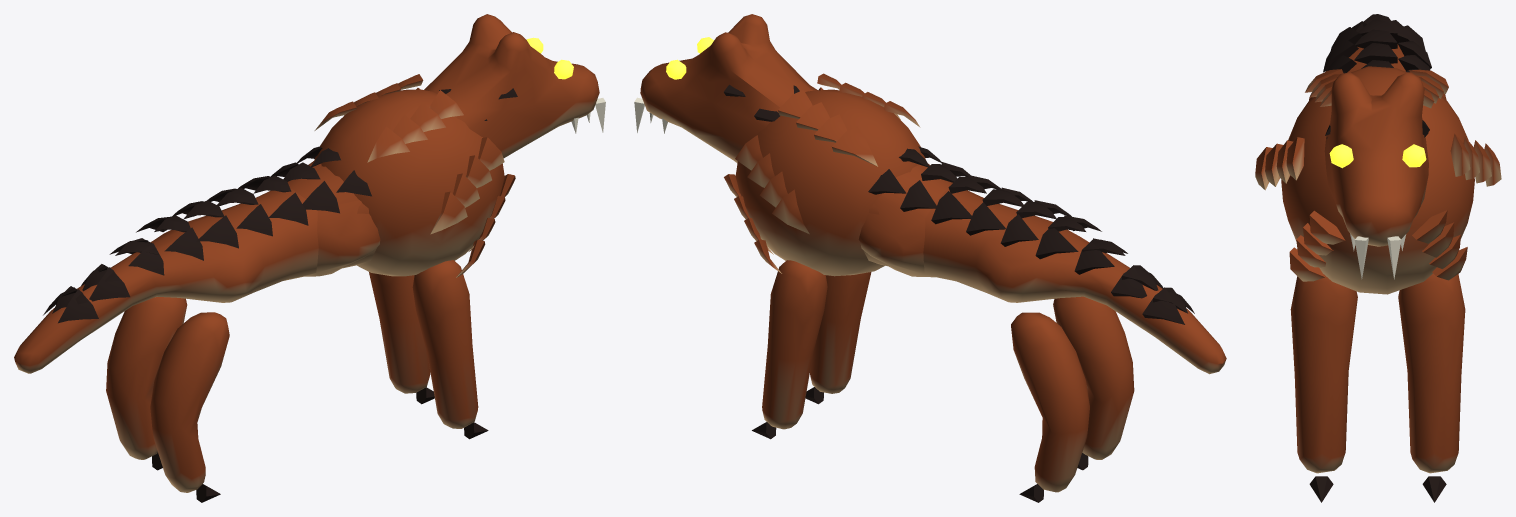
File: gevaudan.glb
3 renders of one model, left to right at view 1: azimuth 30°, elevation 25°; view 2: azimuth 150°, elevation 25°; view 3: azimuth 270°, elevation 25°, orthographic. The views are drawn at different scales.
Parts seen in each view (by area): view 1: gevaudan.001; view 2: gevaudan.001; view 3: gevaudan.001.
Boxes of the visible parts, x1,y1,x2,y2 form: gevaudan.001: (14, 14, 605, 502); gevaudan.001: (634, 14, 1226, 502); gevaudan.001: (1255, 14, 1501, 502).
Bounding box in the file's own units: 1.97 × 1.23 × 0.6101.
